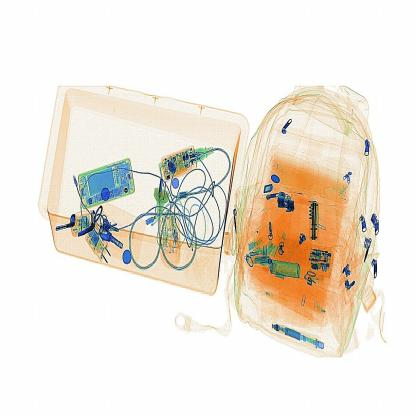scissors: (308, 198, 322, 246)
